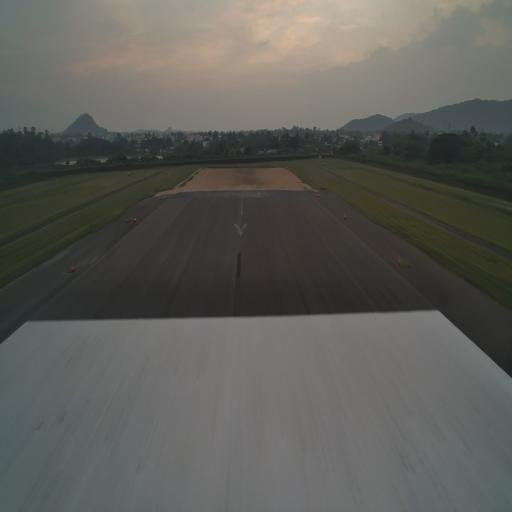on: (68, 264, 76, 273), (396, 257, 401, 267), (342, 212, 348, 220), (134, 216, 138, 224)
